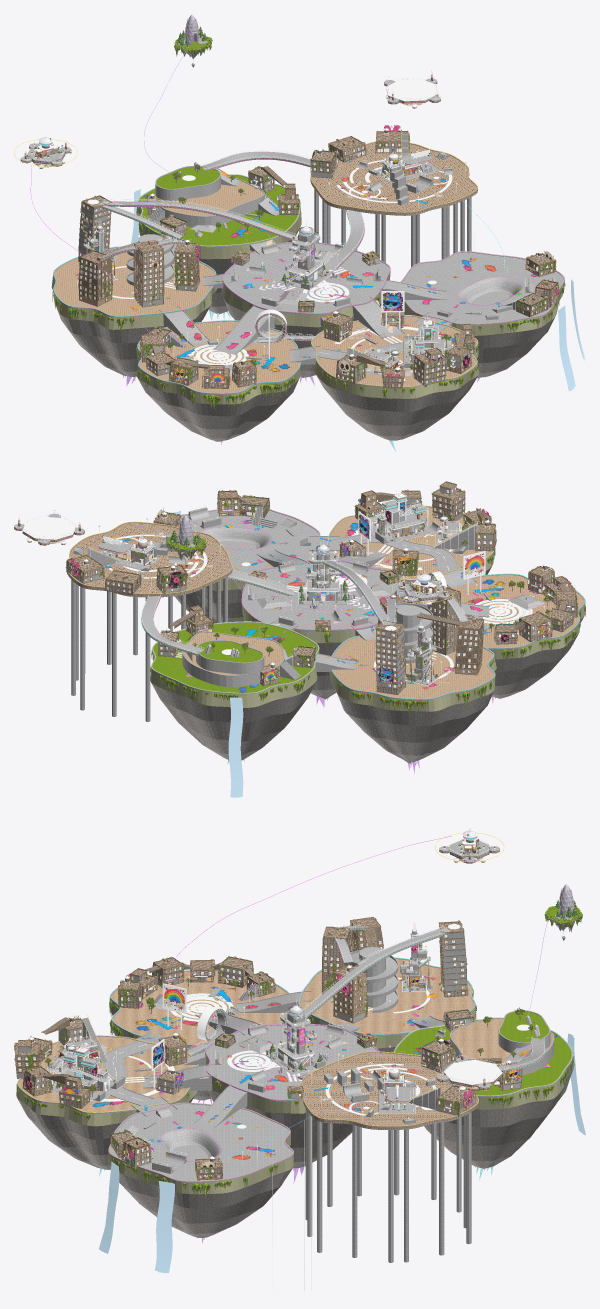
Rendered from zone_skyline_visual.glb.
3 renders of one model, top to bottom at view 1: azimuth 30°, elevation 25°; view 2: azimuth 150°, elevation 25°; view 3: azimuth 270°, elevation 25°, orthographic. The views are drawn at different scales.
Parts seen in each view (by area): view 1: zone_skyline_visual; view 2: zone_skyline_visual; view 3: zone_skyline_visual.
Part boxes in pixels (<box>): zone_skyline_visual: <box>14,14,585,451</box>; zone_skyline_visual: <box>14,481,585,797</box>; zone_skyline_visual: <box>14,826,585,1294</box>.
Bounding box in the file's own units: 254 × 165 × 263.
Materials: 20 (20 with a texture image).
